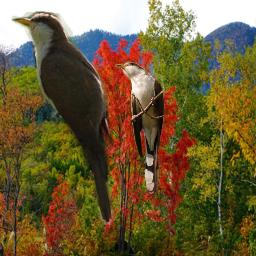Cuckoo: (11, 11, 118, 227), (115, 61, 165, 195)
